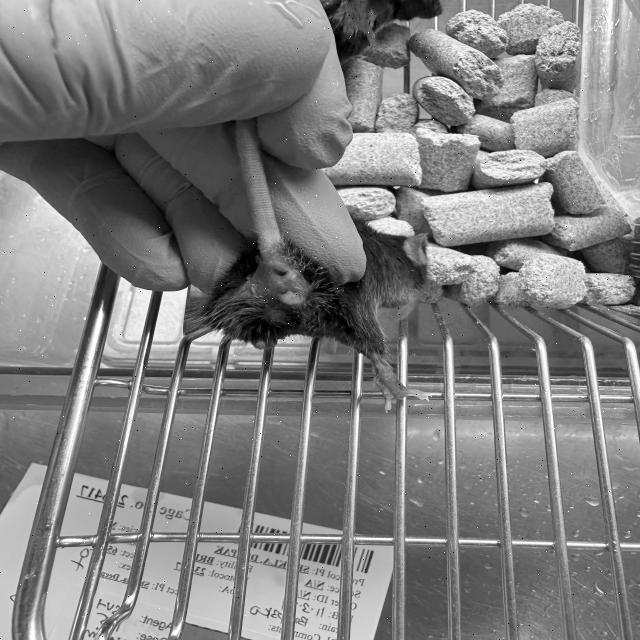Genital: (201, 227, 358, 355)
